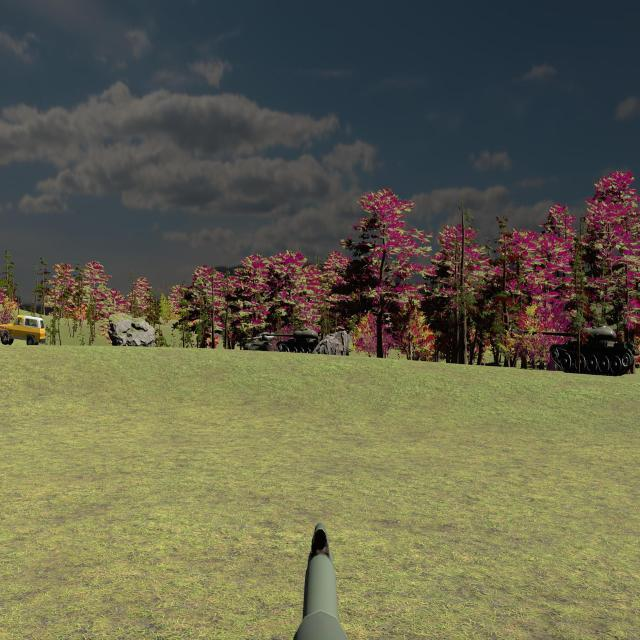Tank: (519, 322, 637, 377), (265, 329, 332, 356)
car: (0, 315, 45, 346)
